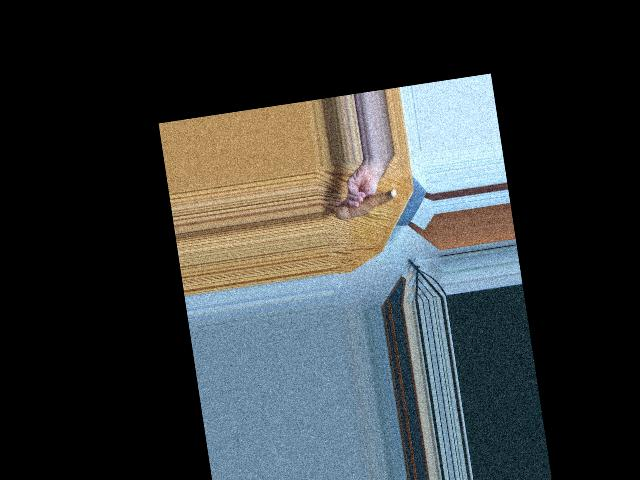sweet_potato: (335, 186, 396, 223)
